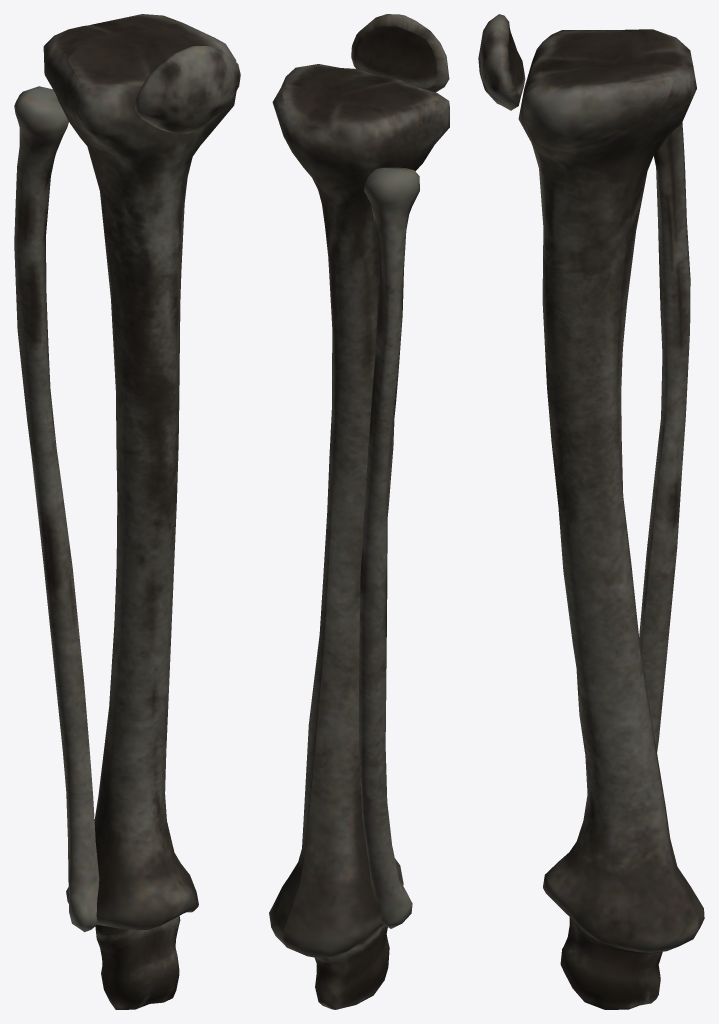
Rendered from right_leg_1.obj.
3 views of the same model, side by side, from view 1: azimuth 30°, elevation 25°; view 2: azimuth 150°, elevation 25°; view 3: azimuth 270°, elevation 25° (orthographic). The views are drawn at different scales.
Parts seen in each view (by area): view 1: leg_2_dr_Material; view 2: leg_2_dr_Material; view 3: leg_2_dr_Material.
Boxes of the visible parts, box(x1,y1,x2,y2) form: leg_2_dr_Material: box(14, 14, 240, 1009); leg_2_dr_Material: box(269, 14, 449, 1009); leg_2_dr_Material: box(478, 14, 704, 1009).
Bounding box in the file's own units: 0.066 × 0.3591 × 0.0748.
